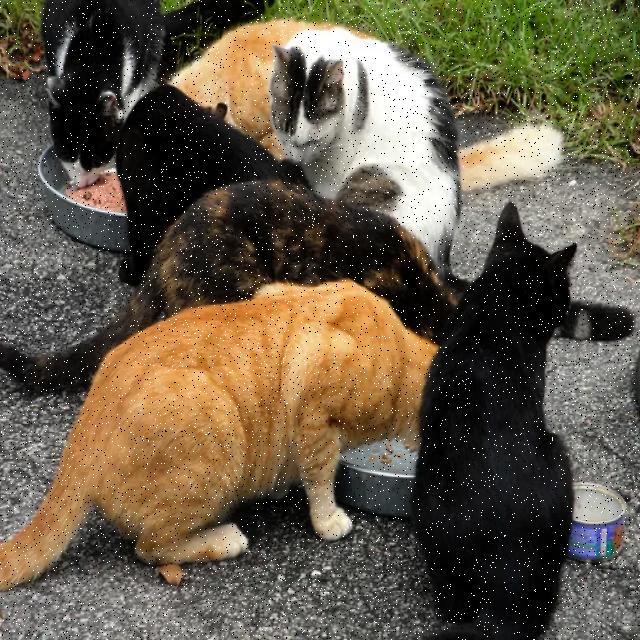cat: (0, 282, 436, 589), (0, 180, 456, 388), (414, 203, 576, 638), (270, 28, 460, 277), (116, 87, 308, 282), (42, 0, 165, 187), (171, 20, 331, 159), (162, 0, 265, 41)
